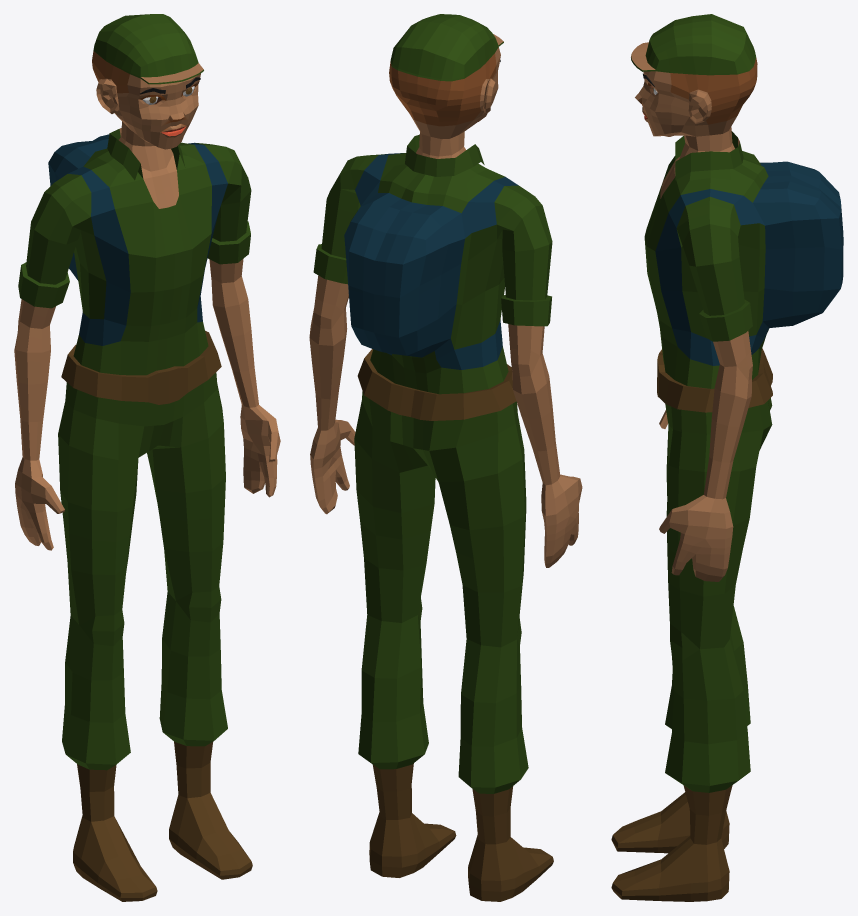
File: Soldier_Stand.fbx
3 views of the same model, side by side, from view 1: azimuth 30°, elevation 25°; view 2: azimuth 150°, elevation 25°; view 3: azimuth 270°, elevation 25° (orthographic). The views are drawn at different scales.
Visible parts, largest first — view 1: Soldier_Stand; view 2: Soldier_Stand; view 3: Soldier_Stand.
Boxes of the visible parts, box(x1,y1,x2,y2) form: Soldier_Stand: box(14, 14, 280, 901); Soldier_Stand: box(309, 14, 582, 901); Soldier_Stand: box(611, 14, 843, 901).
Size of the model in its own units: 0.3234 by 1.05 by 0.2611.
